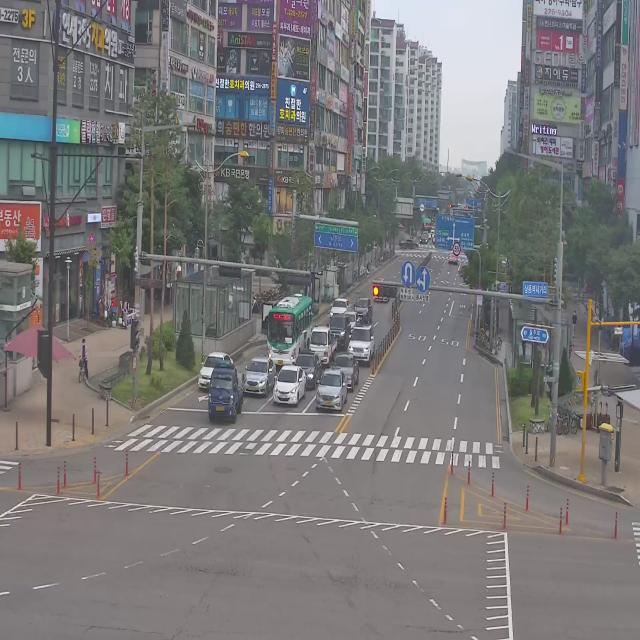Bus: (264, 286, 309, 364)
Car: (314, 364, 348, 412), (198, 351, 235, 391), (272, 364, 306, 406), (242, 356, 276, 396), (348, 324, 375, 366), (356, 291, 375, 323), (330, 318, 348, 351), (329, 293, 347, 317), (347, 312, 363, 329)
Truck: (208, 366, 244, 423), (312, 324, 334, 367)
